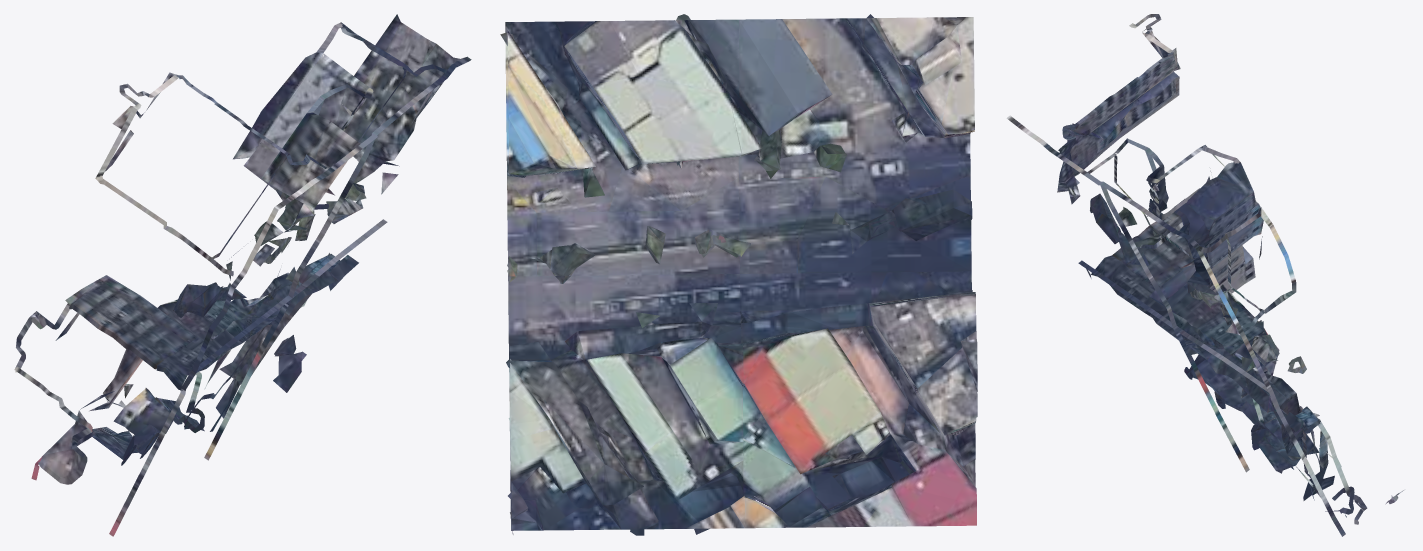
3 renders of one model, left to right at view 1: azimuth 30°, elevation 25°; view 2: azimuth 150°, elevation 25°; view 3: azimuth 270°, elevation 25°, orthographic. The views are drawn at different scales.
Bounding box in the file's own units: 86.04 × 84.1 × 76.84.
Materials: 1 (1 with a texture image).
